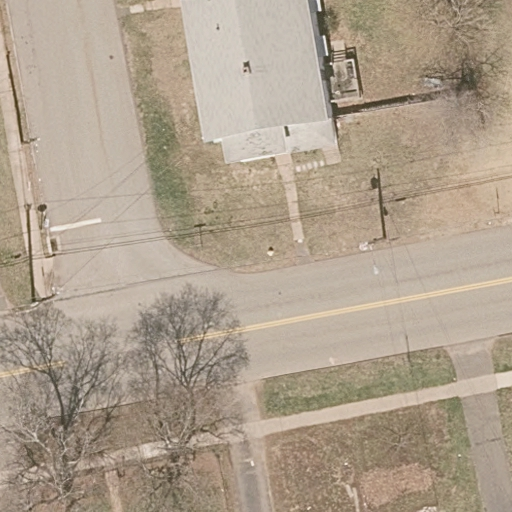DT: (29, 284, 64, 312), (358, 236, 387, 254), (20, 135, 41, 150)
